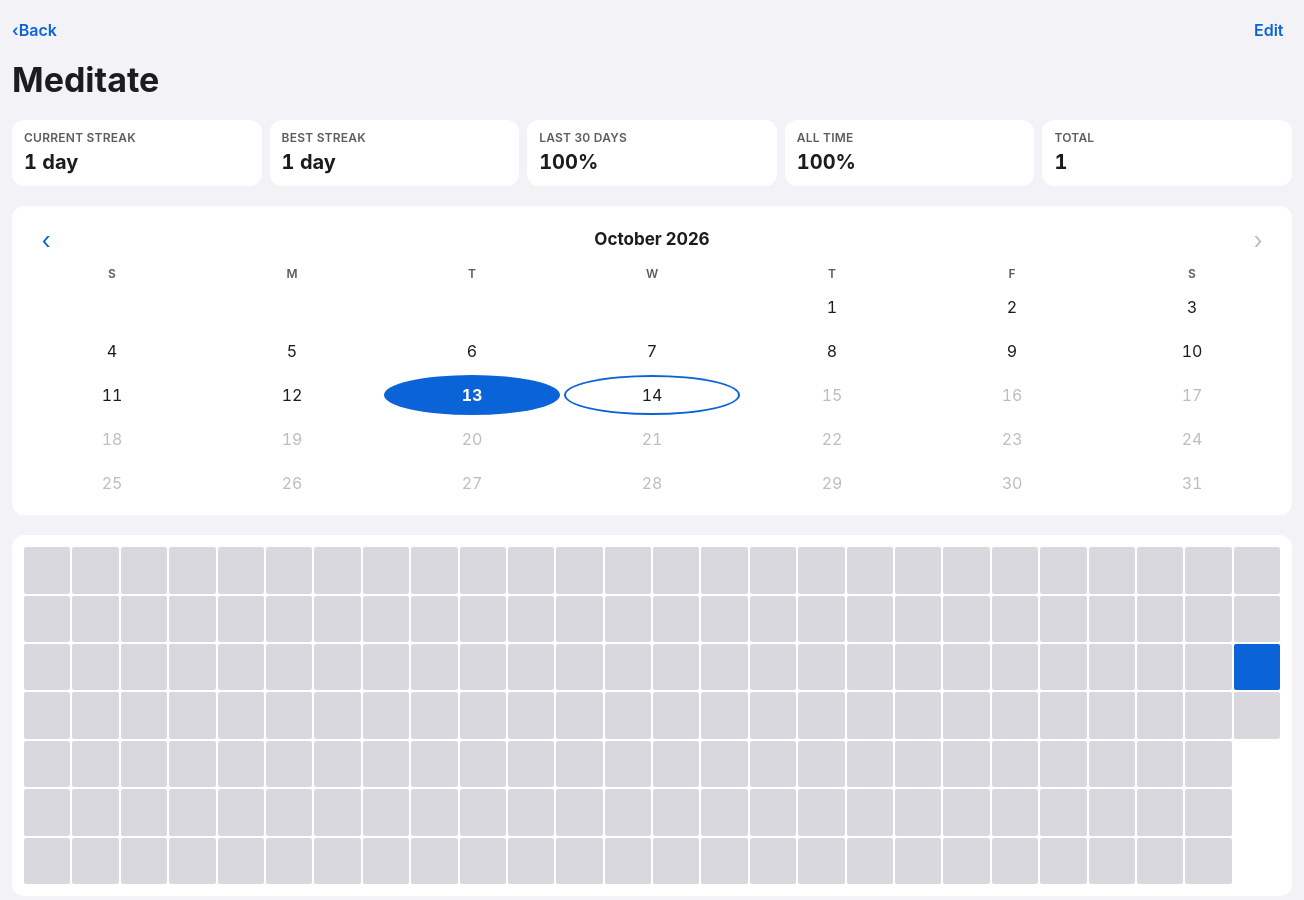
Test: calendar backfill › un-marks a done day
Step 1. Click the button named "October 13, done" → x=472, y=395, box [384,375,560,415]
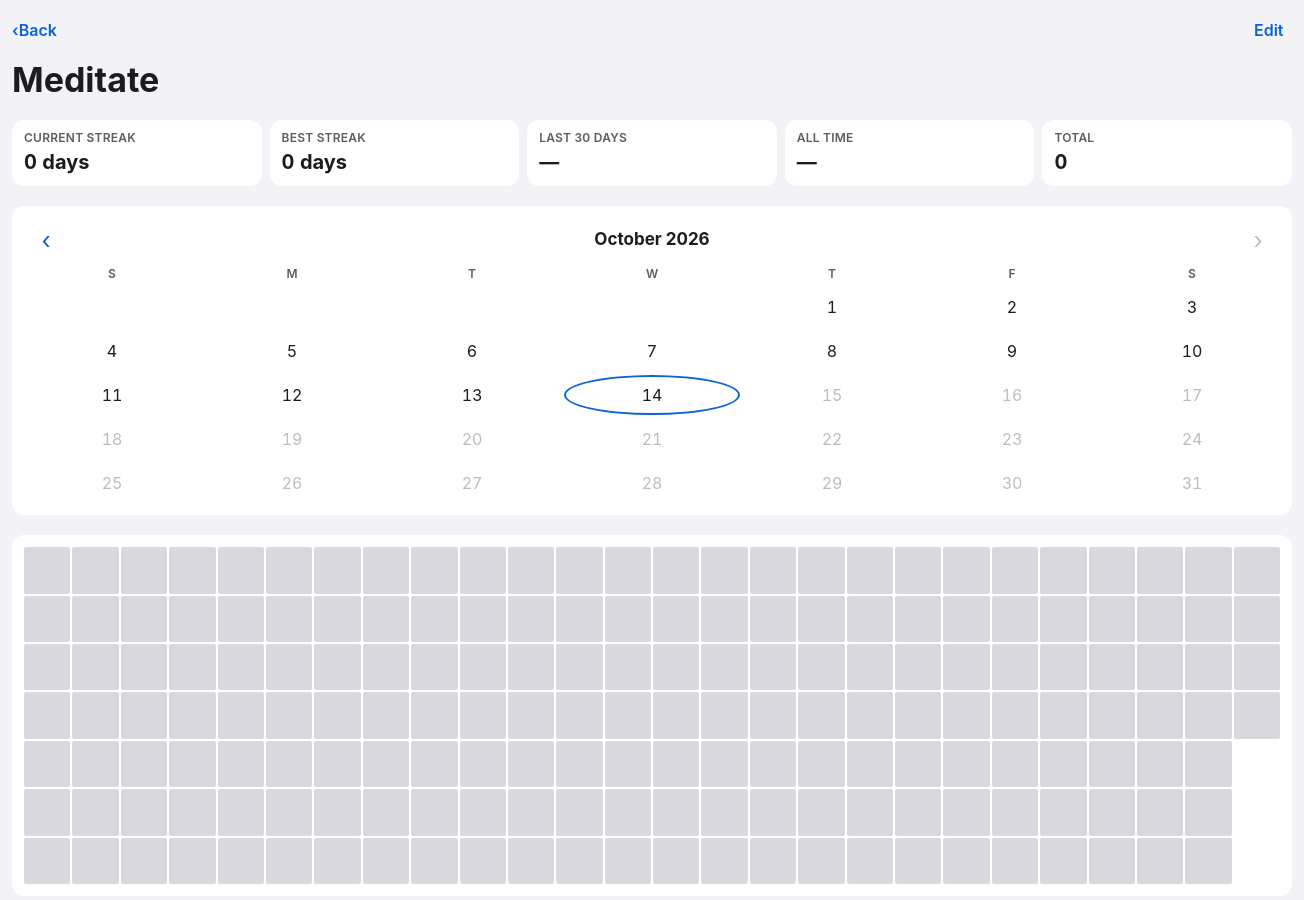
expect the button named "October 13, not done" is shown: met, box [384,375,560,415]
